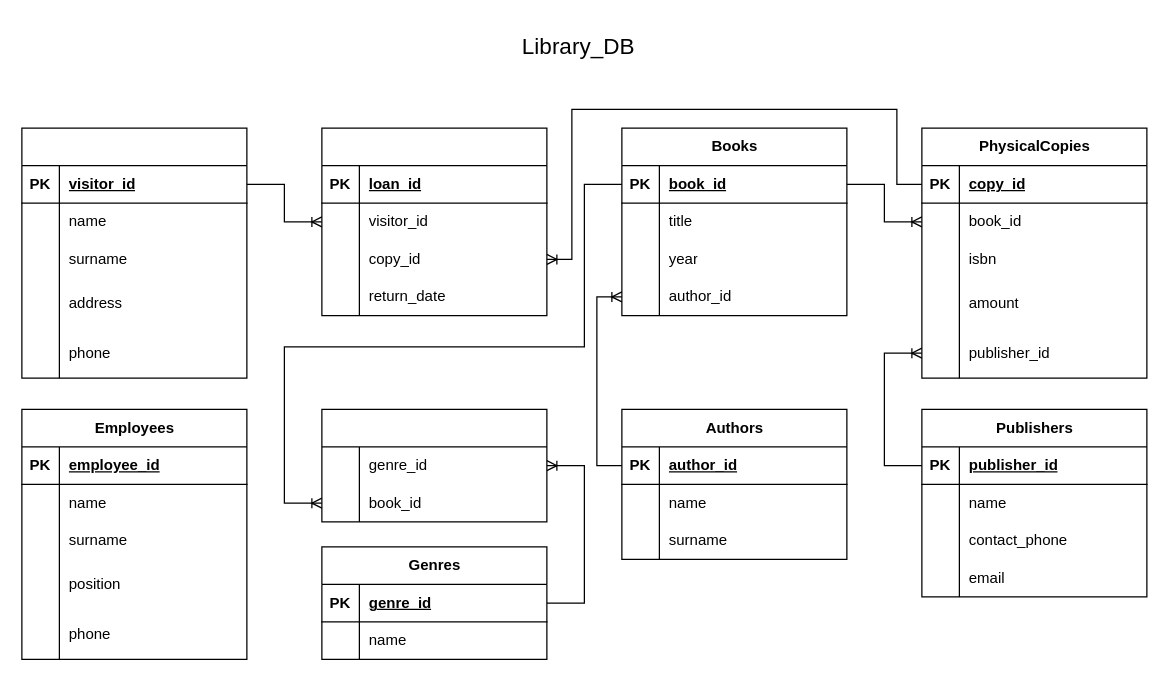
Some shapes in this 1169 by 681 pixel diagram are drawn without their labels. Here are the shapes that lost their labels. From the top down, the box of each, then its label:
(321, 127, 547, 316): Loans
(21, 127, 247, 378): Visitors
(321, 408, 547, 522): BookGenres
